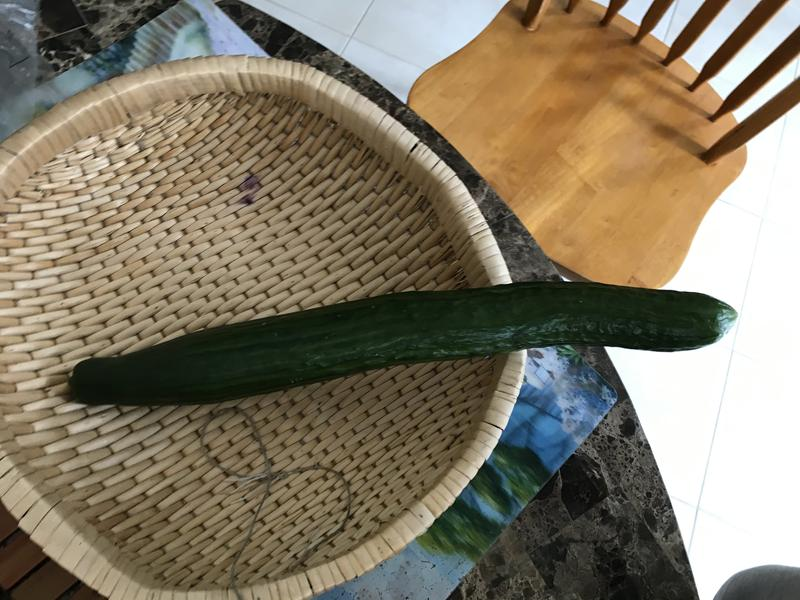cucumber: (54, 278, 746, 424)
